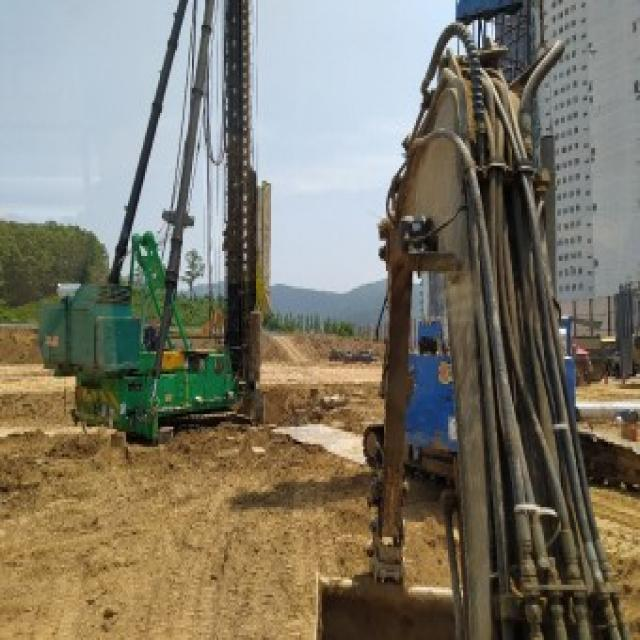pile: (243, 0, 255, 284)
